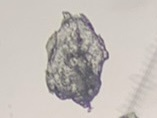microplastic: (42, 9, 108, 113)
